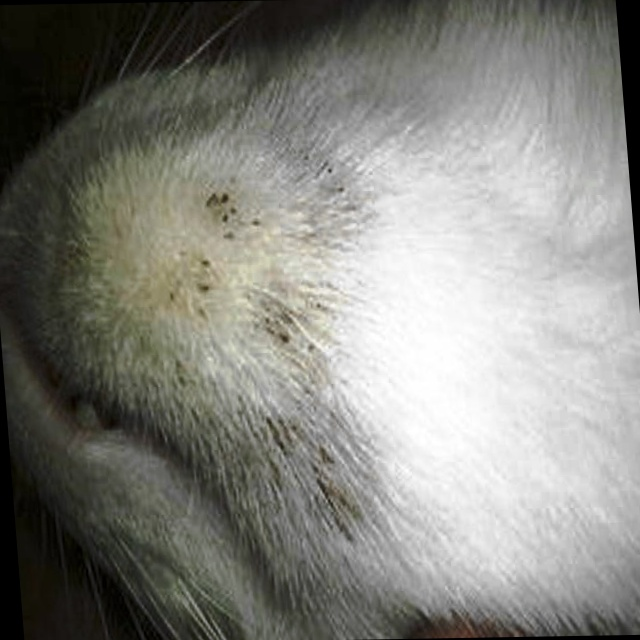acne: (148, 185, 333, 353)
